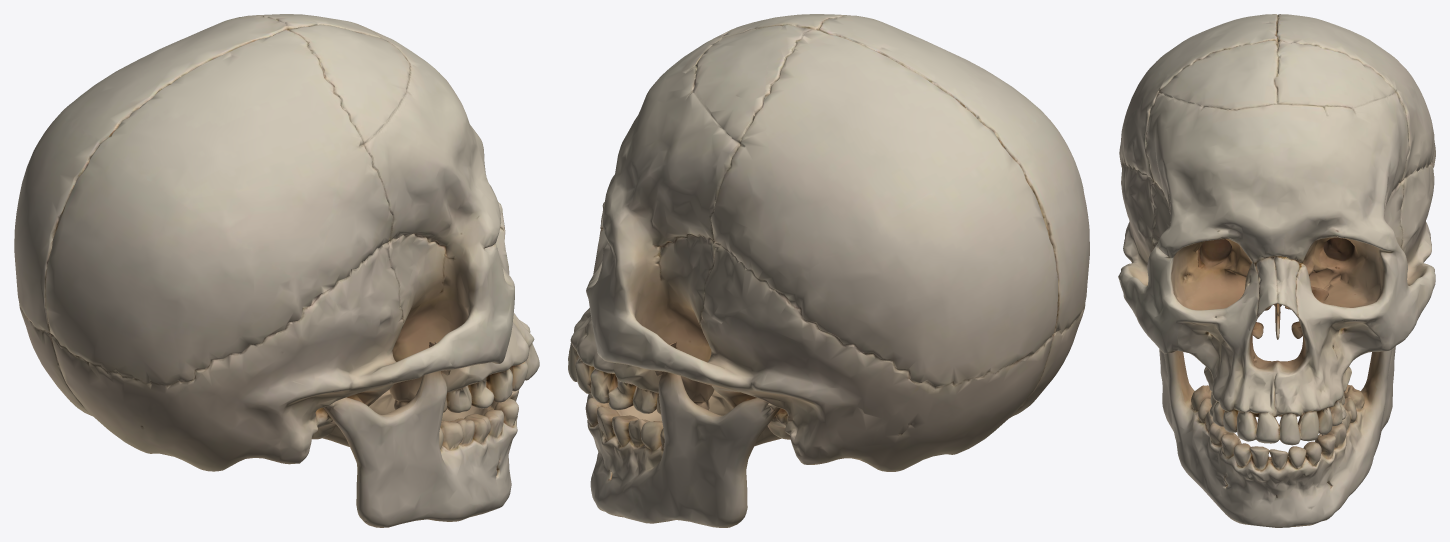
The model's file is skeletal.glb.
3 renders of one model, left to right at view 1: azimuth 30°, elevation 25°; view 2: azimuth 150°, elevation 25°; view 3: azimuth 270°, elevation 25°, orthographic. The views are drawn at different scales.
Parts seen in each view (by area): view 1: tripo_node_69beeb04-22e8-4805-95a0-2cabca72dabe; view 2: tripo_node_69beeb04-22e8-4805-95a0-2cabca72dabe; view 3: tripo_node_69beeb04-22e8-4805-95a0-2cabca72dabe.
Part boxes in pixels (box(x1,y1,x2,y2)): tripo_node_69beeb04-22e8-4805-95a0-2cabca72dabe: box(14, 14, 539, 527); tripo_node_69beeb04-22e8-4805-95a0-2cabca72dabe: box(568, 14, 1089, 527); tripo_node_69beeb04-22e8-4805-95a0-2cabca72dabe: box(1118, 14, 1435, 527).
Size of the model in its own units: 0.996 by 0.9997 by 0.7043.
1 material, 1 textured.
